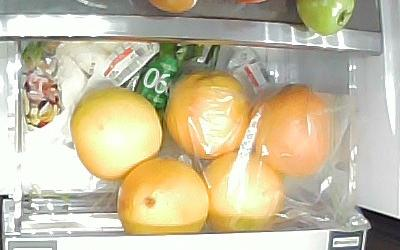grapefruit: (69, 90, 162, 181), (118, 158, 208, 235)
grapefruit_vinyl: (254, 83, 333, 178), (166, 70, 248, 159), (202, 152, 281, 231)
